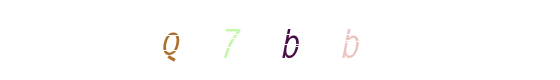7: (240, 0, 320, 80)
B: (241, 0, 321, 80), (250, 0, 330, 80)
Q: (151, 0, 231, 80)
